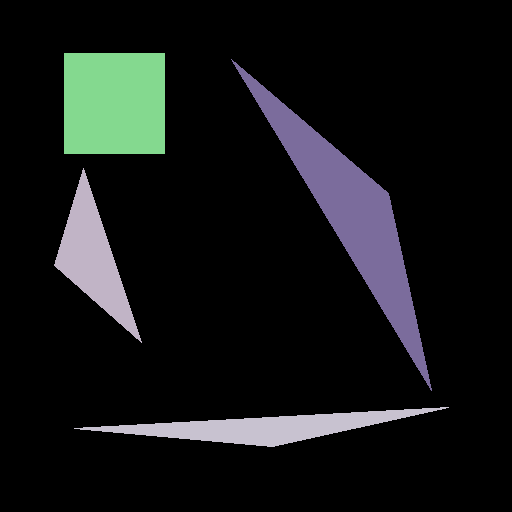square: (64, 53, 164, 153)
triangle: (231, 59, 431, 390), (54, 168, 141, 342), (74, 407, 448, 446)
